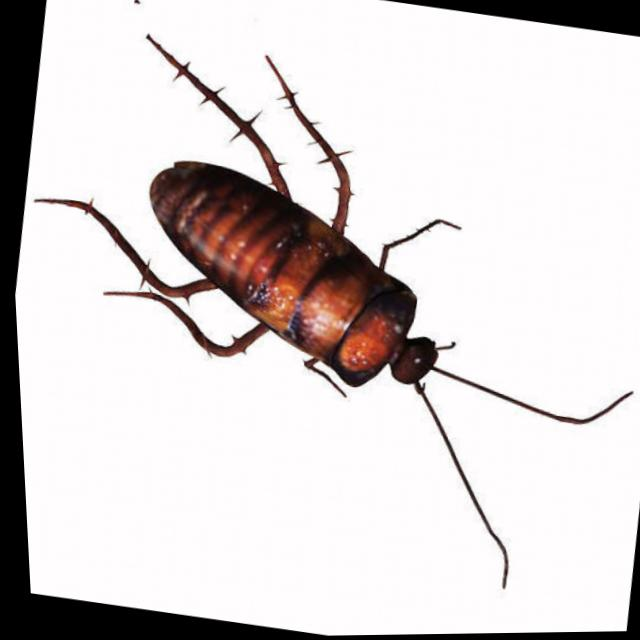Cockroach: (0, 1, 640, 625)
